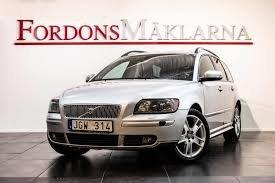license-plates: (68, 120, 112, 132)
